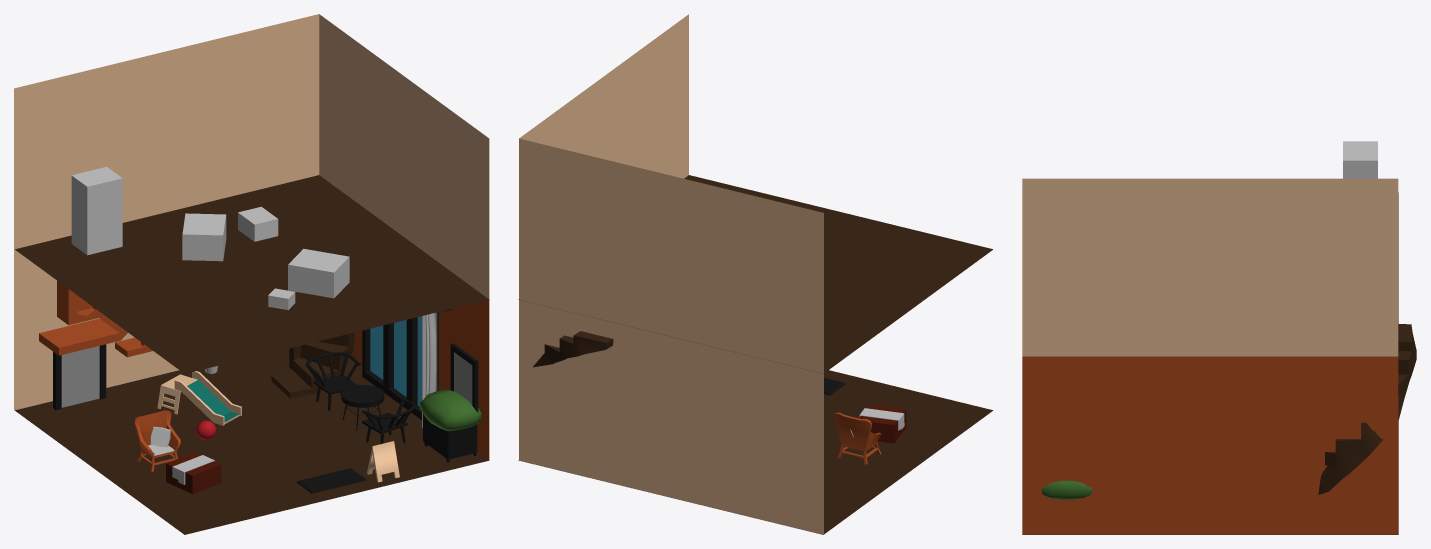
File: bg 2f sel_fbx.FBX
The picture shows the model from 3 angles, left to right: view 1: azimuth 30°, elevation 25°; view 2: azimuth 150°, elevation 25°; view 3: azimuth 270°, elevation 25°; orthographic projection. The views are drawn at different scales.
Parts seen in each view (by area): view 1: wall 2f, ground2f, ground 1f, wall 1f, ride, Box 2f, blak chair, curtains, stair; view 2: wall 2f, wall 1f, ground2f, ground 1f, blak chair, stair; view 3: wall 2f, wall 1f, stair, Box 2f, ride, ground2f, ground 1f.
Boxes of the visible parts, left/top/right/bottom form: wall 2f: left=14, top=14, right=489, bottom=298; ground2f: left=15, top=175, right=489, bottom=373; ground 1f: left=15, top=348, right=489, bottom=534; wall 1f: left=14, top=249, right=489, bottom=460; ride: left=39, top=280, right=481, bottom=493; Box 2f: left=71, top=166, right=349, bottom=310; blak chair: left=133, top=343, right=478, bottom=494; curtains: left=362, top=309, right=451, bottom=427; stair: left=271, top=332, right=354, bottom=398; wall 2f: left=519, top=14, right=823, bottom=373; wall 1f: left=519, top=299, right=823, bottom=534; ground2f: left=518, top=175, right=992, bottom=373; ground 1f: left=518, top=370, right=993, bottom=534; blak chair: left=834, top=404, right=906, bottom=464; stair: left=533, top=331, right=613, bottom=367; wall 2f: left=1022, top=178, right=1398, bottom=356; wall 1f: left=1022, top=357, right=1398, bottom=534; stair: left=1318, top=324, right=1416, bottom=494; Box 2f: left=1343, top=141, right=1377, bottom=178; ride: left=1042, top=480, right=1092, bottom=499; ground2f: left=1022, top=192, right=1398, bottom=356; ground 1f: left=1022, top=421, right=1398, bottom=534.
Size of the model in its own units: 457 by 454 by 453.
